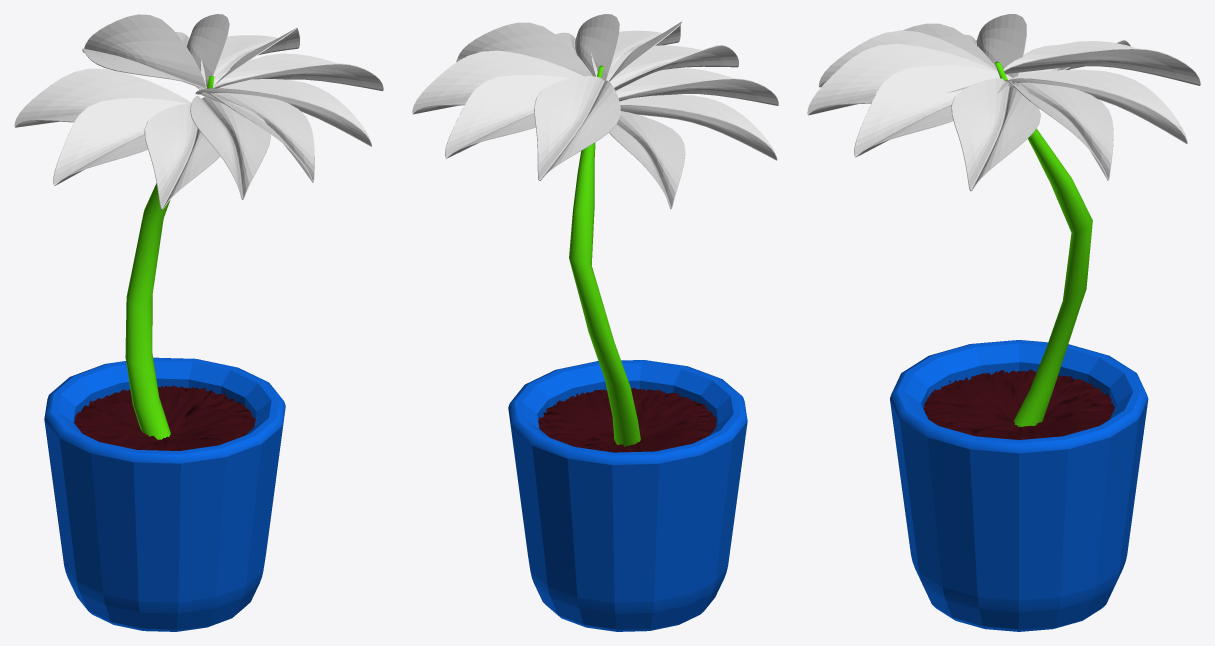
Rendered from biljka1.fbx.
The picture shows the model from 3 angles, left to right: view 1: azimuth 30°, elevation 25°; view 2: azimuth 150°, elevation 25°; view 3: azimuth 270°, elevation 25°; orthographic projection. The views are drawn at different scales.
Visible parts, largest first — view 1: Cylinder.005; view 2: Cylinder.005; view 3: Cylinder.005.
Boxes of the visible parts, bbox=[...] form: Cylinder.005: bbox=[14, 14, 383, 631]; Cylinder.005: bbox=[412, 14, 778, 631]; Cylinder.005: bbox=[807, 14, 1200, 631].
Size of the model in its own units: 246 by 385 by 242.
